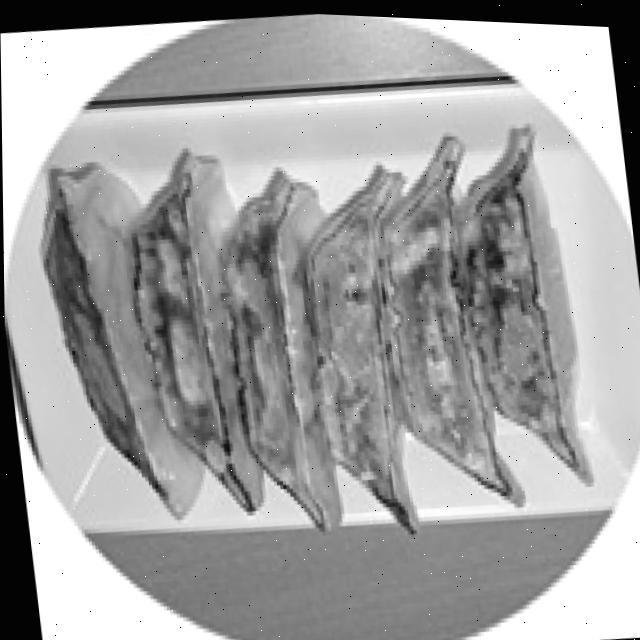带馅早点: (104, 4, 624, 212)
